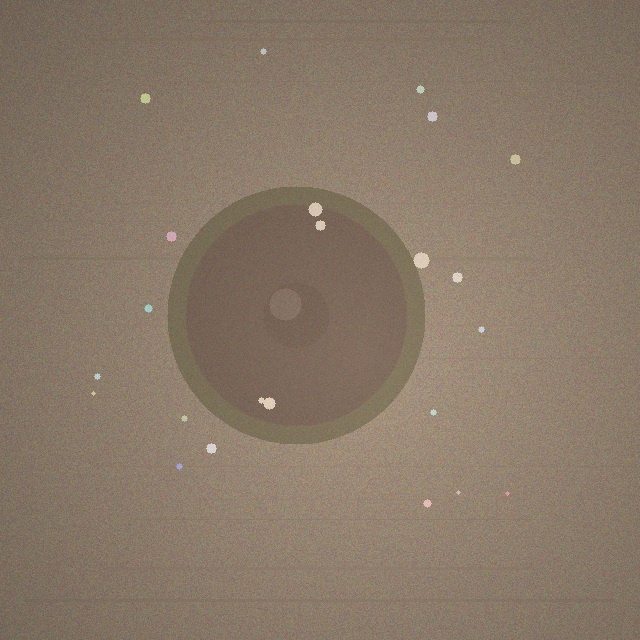overburn: (167, 186, 425, 444)
